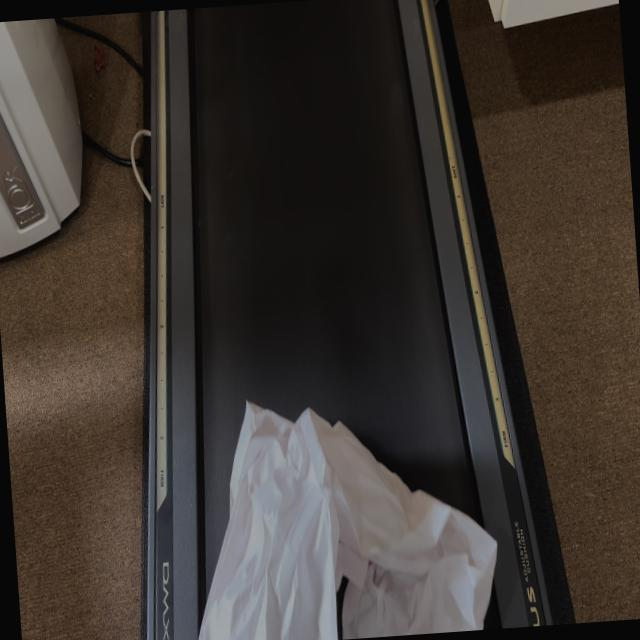Recycle: (176, 381, 502, 640)
